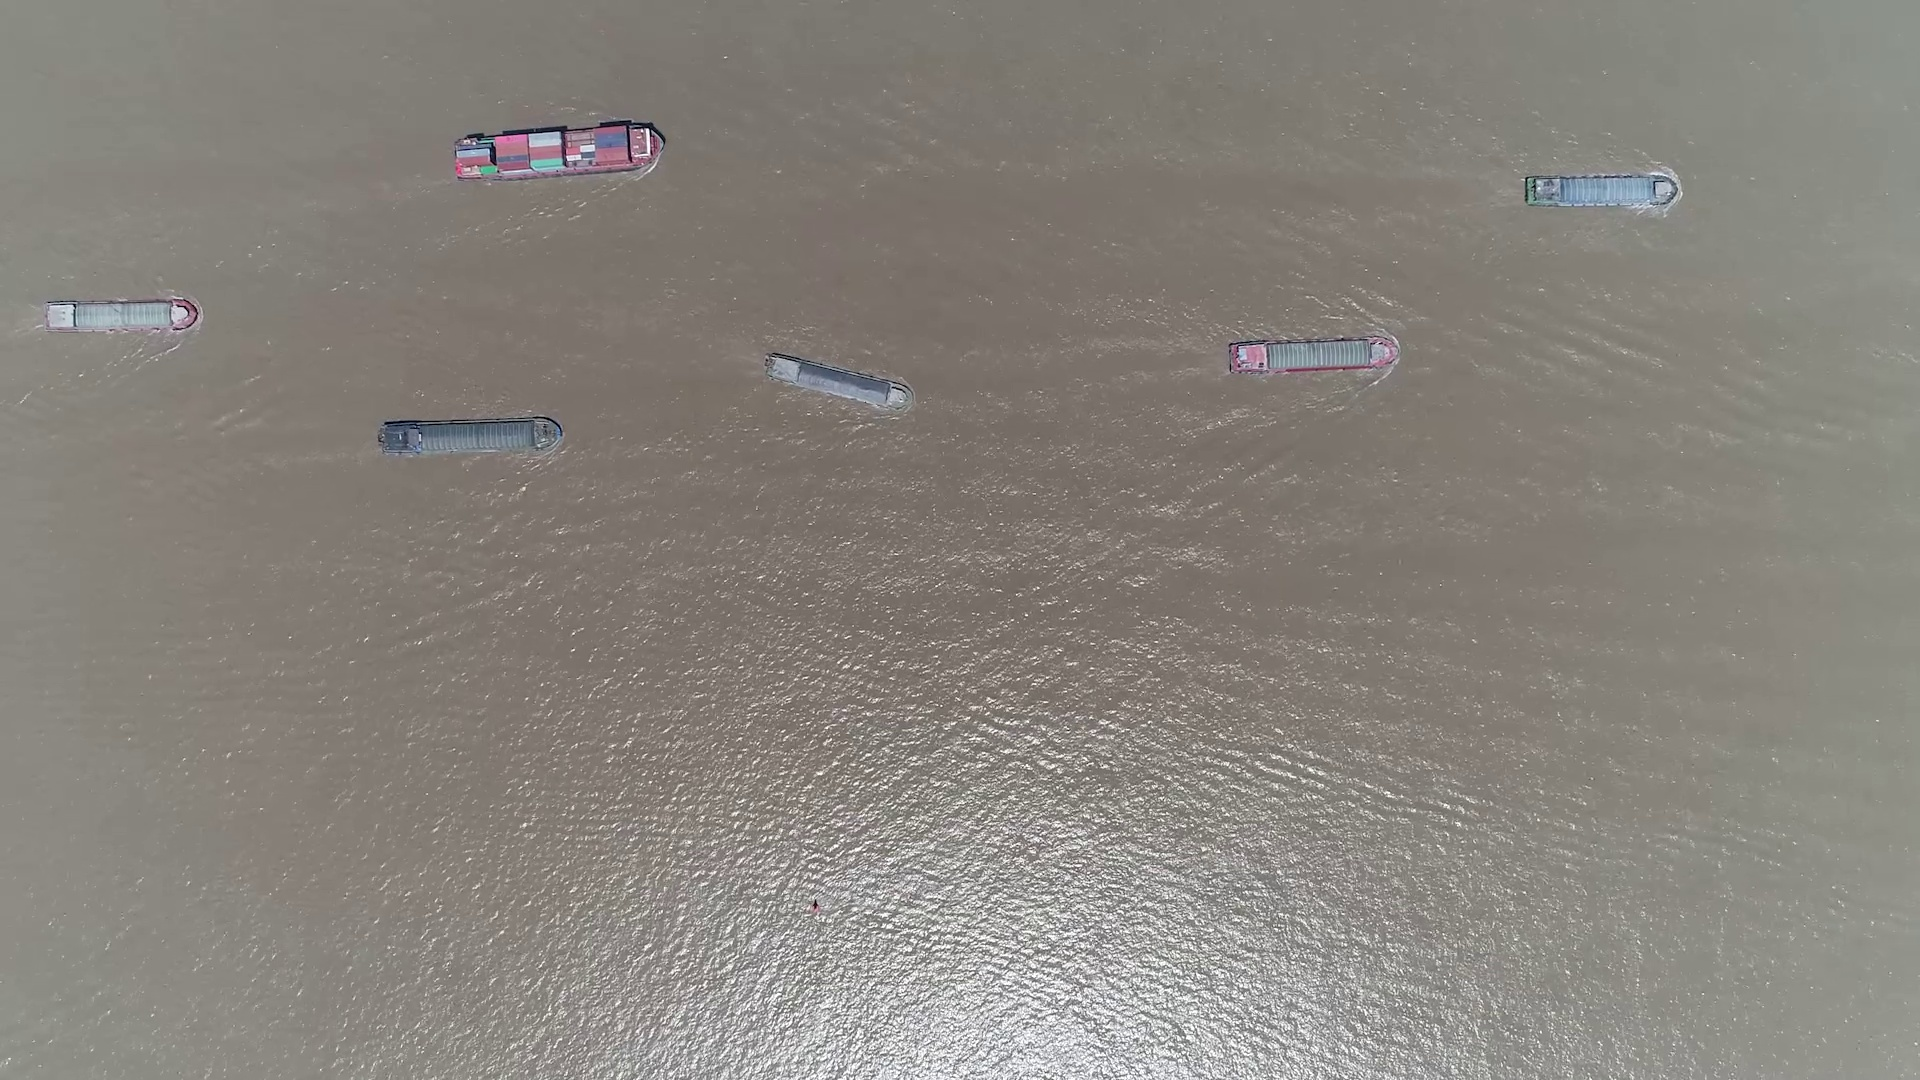ship: (452, 125, 659, 179), (765, 353, 913, 410), (378, 418, 560, 456), (1228, 336, 1399, 375), (44, 301, 196, 332), (1527, 177, 1673, 208)
